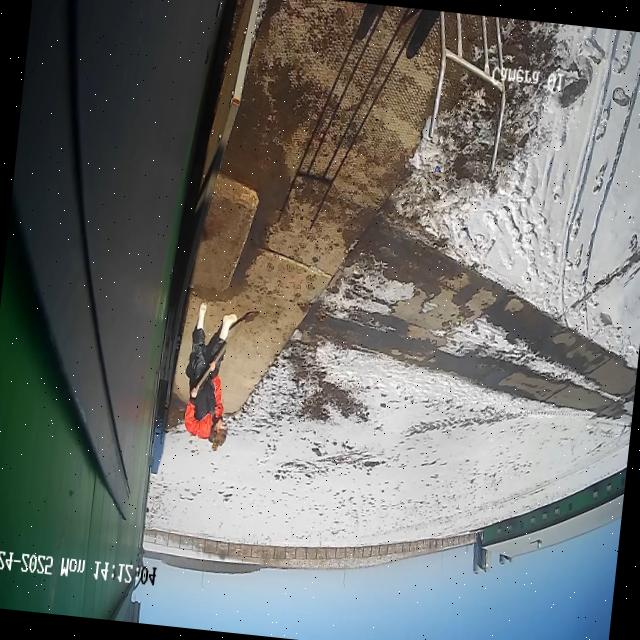Red uniform: (175, 296, 242, 453)
